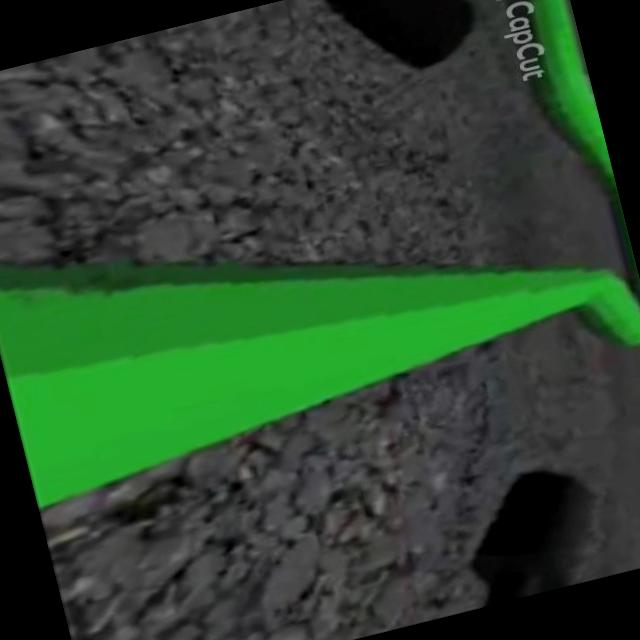gas: (0, 123, 601, 512)
